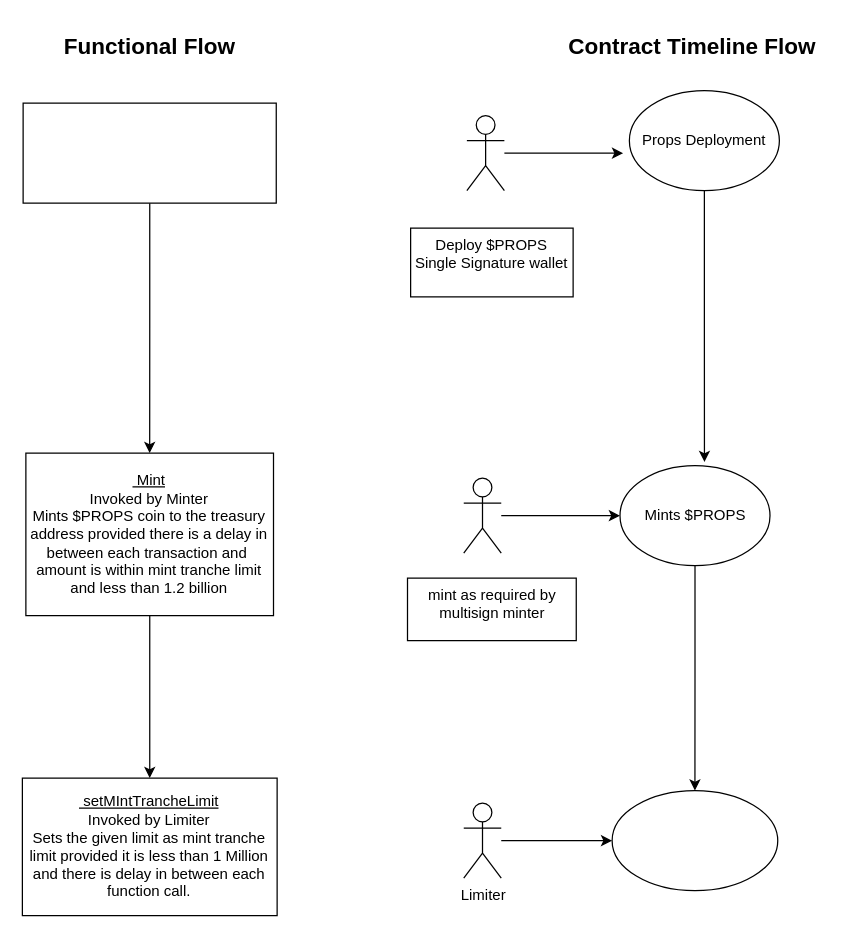
Image size: 851x938. Some labels were removed from this diagram. The centre of each missing label's shape, as x and y in pixels:
"Constructor (Props contract) Initialise PROPS coin" goes at [149,152].
"Deployer" goes at [485,152].
"Minter" goes at [481,515].
"sets Mint tranche limit to lower value" goes at [694,840].
